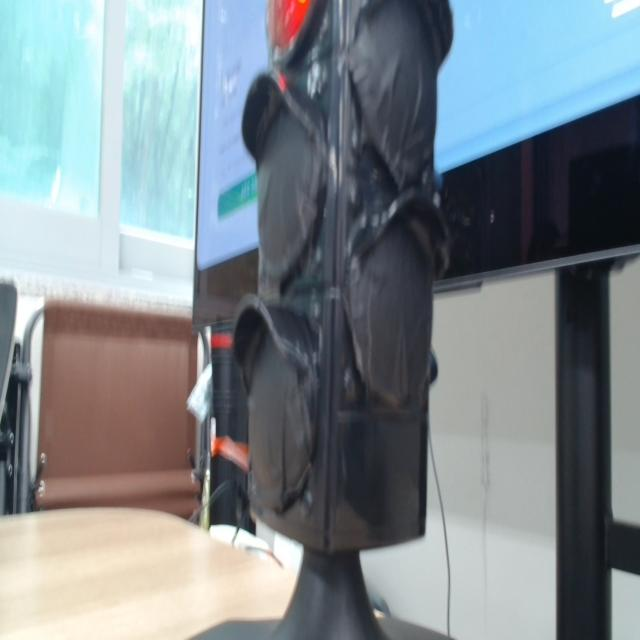red_light: (267, 0, 313, 52)
